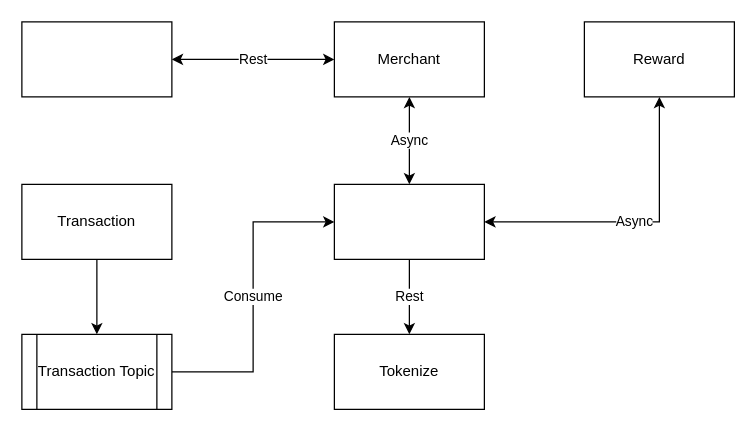
Image size: 756x431. Some labels were removed from this diagram. Here are the shapes that lost their labels. From the top down, the centre of each, then its label:
point (96, 59): 3rd Party Merchant Service
point (408, 221): Augmenter
